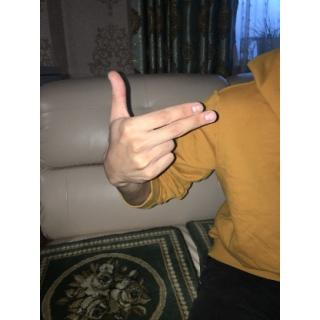GHAYN: (100, 65, 220, 193)
